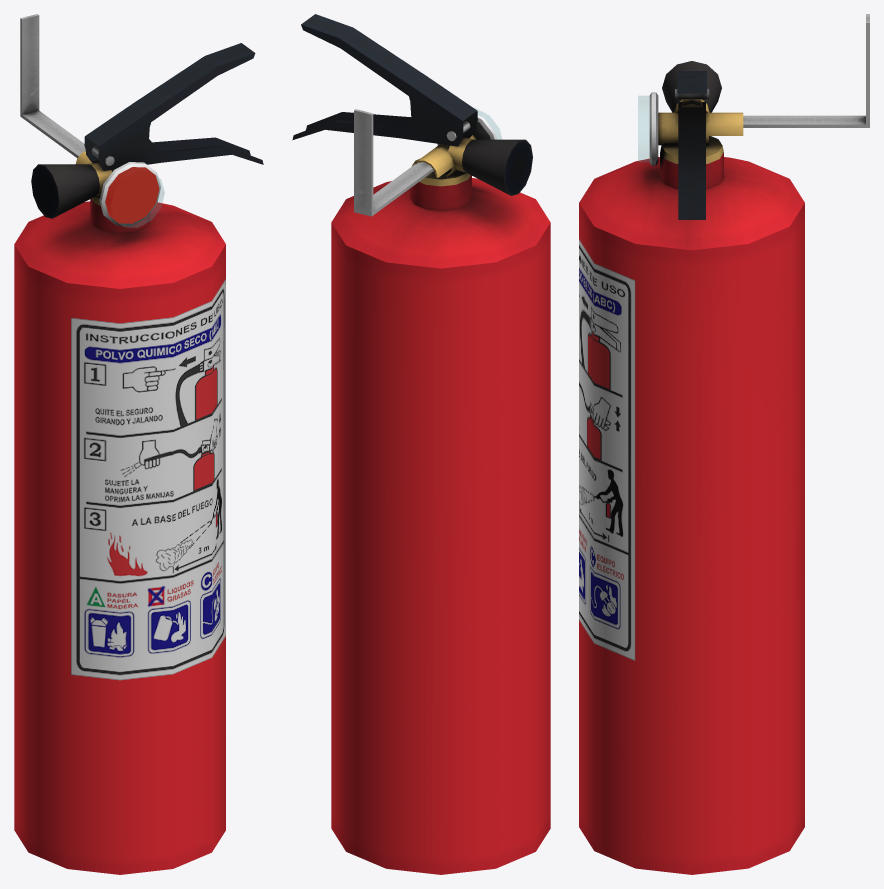
Rendered from Extintor Tipo B.FBX.
3 renders of one model, left to right at view 1: azimuth 30°, elevation 25°; view 2: azimuth 150°, elevation 25°; view 3: azimuth 270°, elevation 25°, orthographic. The views are drawn at different scales.
Visible parts, largest first — view 1: Cilindro, Pinza_de_masa002, Soporte_Pared, salida, Carga, Pinza_de_masa001, Centro_002; view 2: Cilindro, Pinza_de_masa002, Soporte_Pared, salida, Pinza_de_masa001, Centro_001, Base_Cilindro; view 3: Cilindro, Pinza_de_masa001, Soporte_Pared, Centro_001, salida, Vidrio, Centro_002, Pinza_de_masa002, Base_Cilindro.
Part boxes in pixels (x1,y1,x2,y2): Cilindro: (14, 199, 225, 874); Pinza_de_masa002: (84, 43, 255, 169); Soporte_Pared: (20, 14, 85, 158); salida: (31, 164, 99, 218); Carga: (105, 167, 159, 223); Pinza_de_masa001: (85, 137, 263, 170); Centro_002: (99, 162, 160, 225); Cilindro: (331, 175, 550, 874); Pinza_de_masa002: (301, 14, 477, 144); Soporte_Pared: (354, 109, 433, 216); salida: (462, 139, 532, 195); Pinza_de_masa001: (292, 112, 476, 146); Centro_001: (412, 135, 476, 177); Base_Cilindro: (411, 159, 470, 186); Cilindro: (579, 152, 804, 874); Pinza_de_masa001: (678, 102, 705, 219); Soporte_Pared: (743, 14, 869, 127); Centro_001: (658, 112, 743, 145); salida: (662, 61, 721, 112); Vidrio: (638, 96, 649, 161); Centro_002: (649, 92, 658, 165); Pinza_de_masa002: (677, 71, 706, 93); Base_Cilindro: (660, 136, 723, 163).
Bounding box in the file's own units: 153 × 482 × 158.
2 materials, 1 textured.
